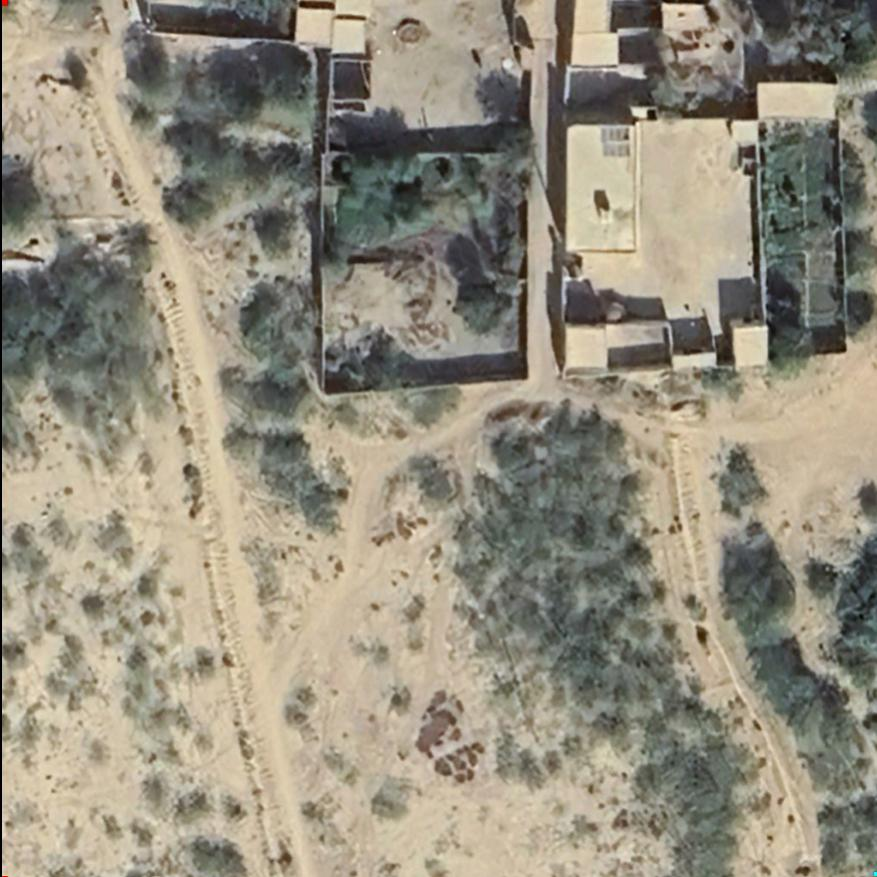Solarpanel: (596, 122, 635, 159)
